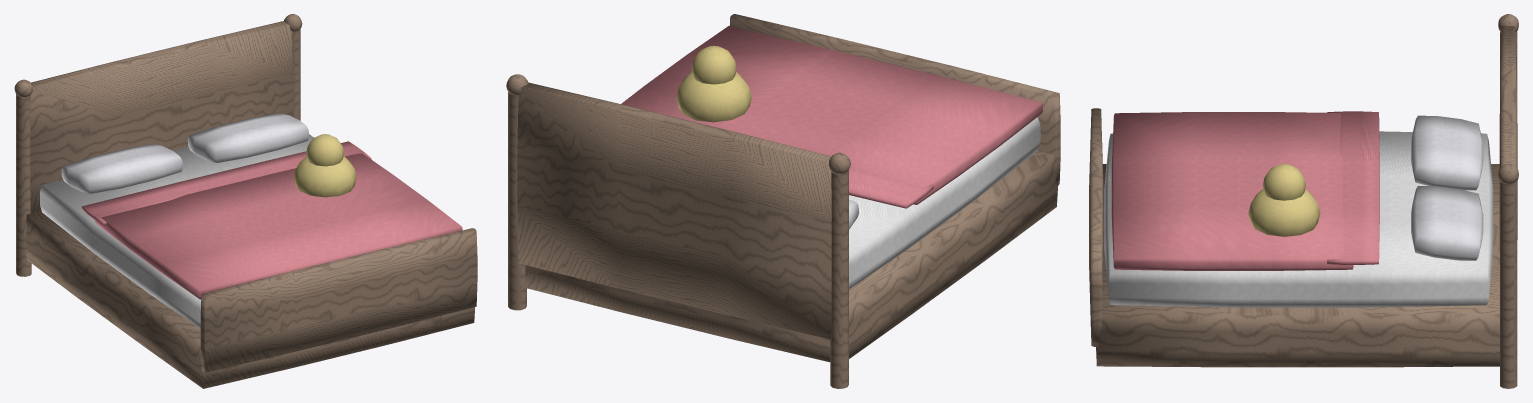
Rendered from bed.glb.
The picture shows the model from 3 angles, left to right: view 1: azimuth 30°, elevation 25°; view 2: azimuth 150°, elevation 25°; view 3: azimuth 270°, elevation 25°; orthographic projection. The views are drawn at different scales.
Parts seen in each view (by area): view 1: bed_body; view 2: bed_body; view 3: bed_body.
Part boxes in pixels (box(x1,y1,x2,y2)): bed_body: box(14, 14, 477, 388); bed_body: box(506, 14, 1060, 388); bed_body: box(1089, 14, 1518, 388).
Bounding box in the file's own units: 2.08 × 1.35 × 2.38.
5 materials, 5 textured.
